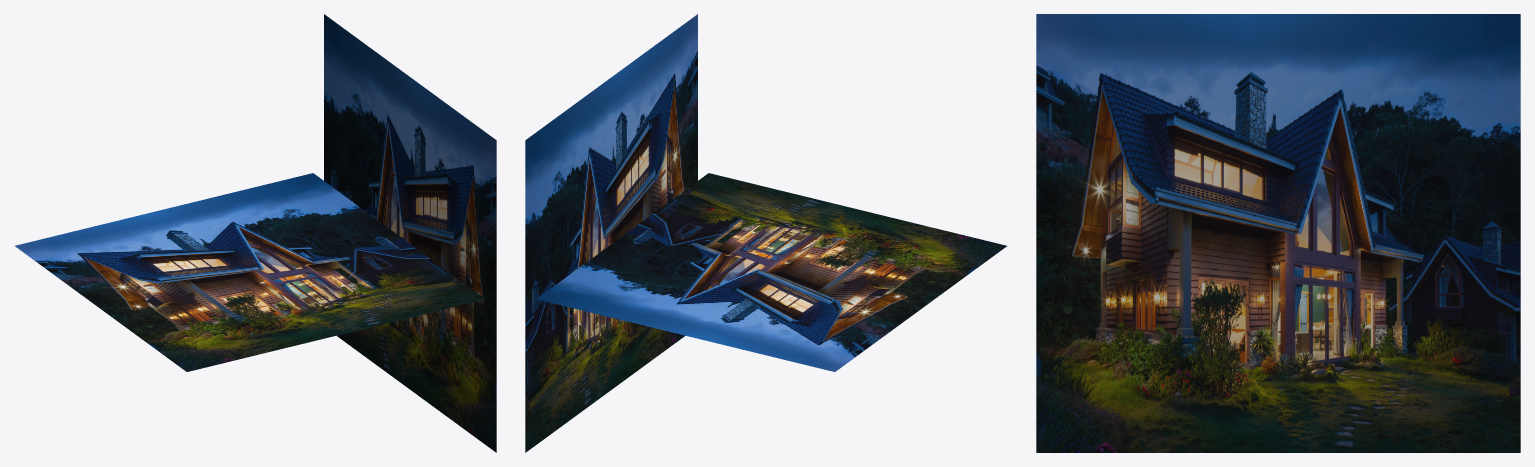
3 renders of one model, left to right at view 1: azimuth 30°, elevation 25°; view 2: azimuth 150°, elevation 25°; view 3: azimuth 270°, elevation 25°, orthographic. The views are drawn at different scales.
Visible parts, largest first — view 1: Plane, Plane.001; view 2: Plane, Plane.001; view 3: Plane.001.
Part boxes in pixels (x1,y1,x2,y2): Plane: (15,173,485,371); Plane.001: (324,14,496,452); Plane: (536,173,1006,371); Plane.001: (525,14,697,452); Plane.001: (1036,14,1520,452).
Size of the model in its own units: 2.07 by 2 by 2.
2 materials, 2 textured.
